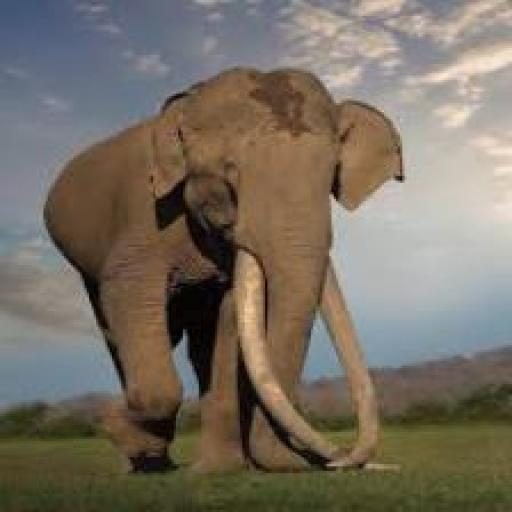Elephant: (7, 23, 468, 492)
